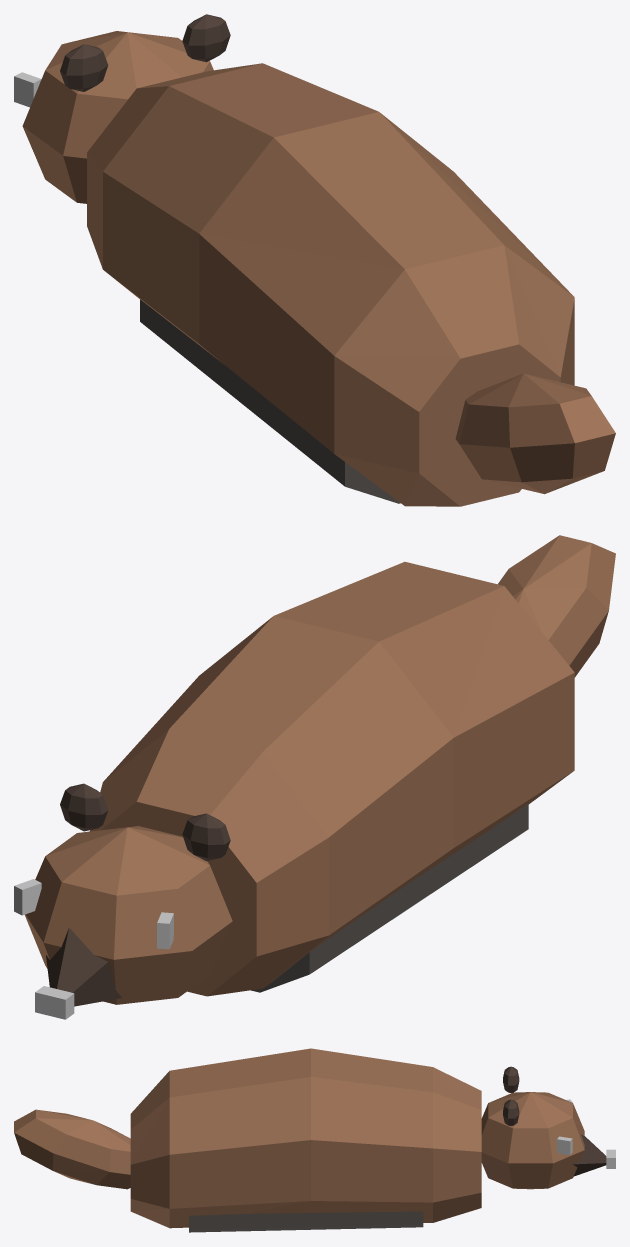
File: animal_wolverine.obj
3 renders of one model, top to bottom at view 1: azimuth 30°, elevation 25°; view 2: azimuth 150°, elevation 25°; view 3: azimuth 270°, elevation 25°, orthographic. The views are drawn at different scales.
Visible parts, largest first — view 1: animal_wolverine; view 2: animal_wolverine; view 3: animal_wolverine.
Boxes of the visible parts, x1,y1,x2,y2 form: animal_wolverine: [14, 14, 615, 506]; animal_wolverine: [14, 535, 615, 1019]; animal_wolverine: [14, 1048, 615, 1232].
Size of the model in its own units: 0.2728 by 0.296 by 1.01.
